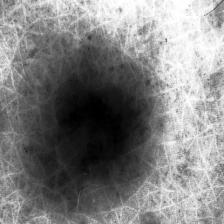Benign Marking or Mole: (40, 55, 136, 182)
